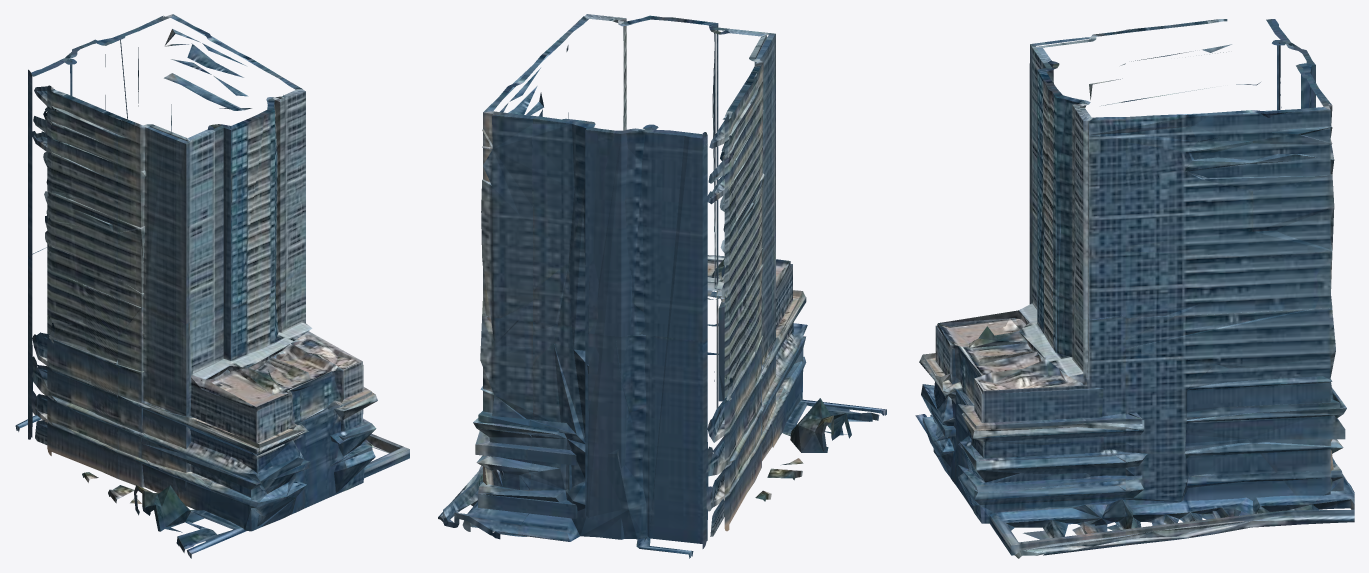
The model's file is chunk_-5_-9.glb.
3 views of the same model, side by side, from view 1: azimuth 30°, elevation 25°; view 2: azimuth 150°, elevation 25°; view 3: azimuth 270°, elevation 25° (orthographic). The views are drawn at different scales.
Parts seen in each view (by area): view 1: hero-chunk; view 2: hero-chunk; view 3: hero-chunk.
Boxes of the visible parts, left/top/right/bottom form: hero-chunk: left=15, top=14, right=409, bottom=558; hero-chunk: left=438, top=14, right=886, bottom=558; hero-chunk: left=915, top=19, right=1354, bottom=558.
Bounding box in the file's own units: 55.73 × 74.8 × 73.24.
3 materials, 3 textured.
